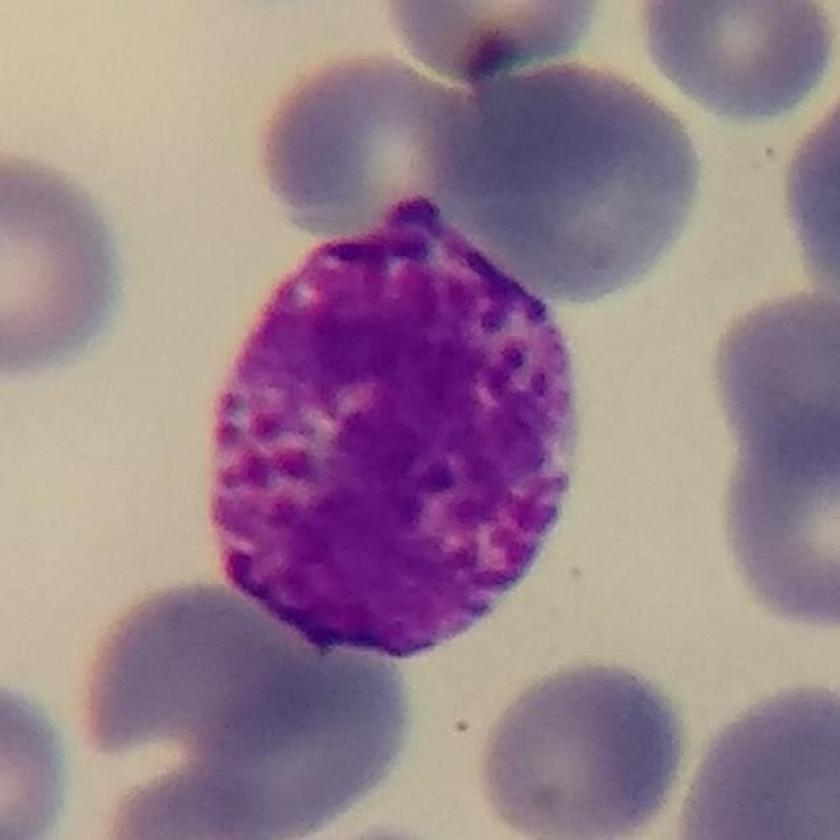basophil: (202, 187, 588, 664)
